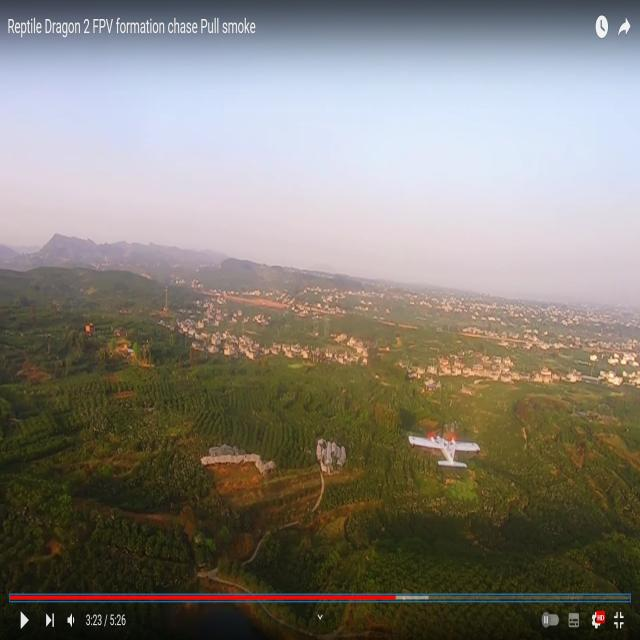iha: (443, 428, 447, 471)
